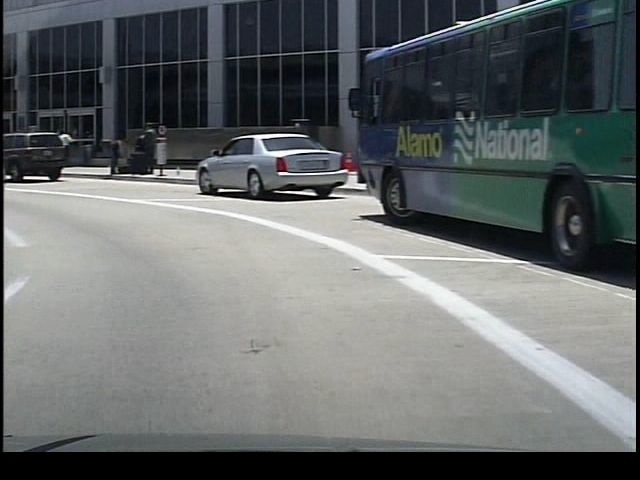person: (95, 127, 125, 181), (132, 121, 154, 176)
